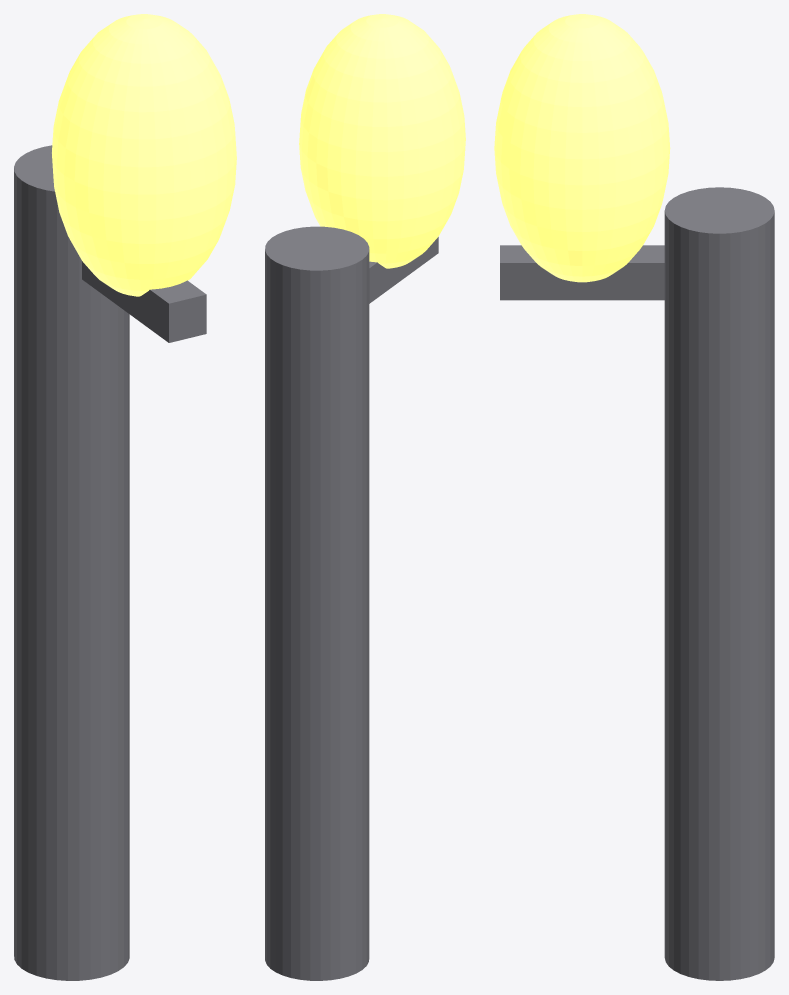
Rendered from prop_torch.glb.
The picture shows the model from 3 angles, left to right: view 1: azimuth 30°, elevation 25°; view 2: azimuth 150°, elevation 25°; view 3: azimuth 270°, elevation 25°; orthographic projection. The views are drawn at different scales.
Parts seen in each view (by area): view 1: Torch_Holder, Torch_Flame, Torch_Bracket; view 2: Torch_Holder, Torch_Flame, Torch_Bracket; view 3: Torch_Holder, Torch_Flame, Torch_Bracket.
Boxes of the visible parts, x1,y1,x2,y2 form: Torch_Holder: (14,145,129,980); Torch_Flame: (52,14,236,296); Torch_Bracket: (82,261,206,342); Torch_Holder: (265,226,369,980); Torch_Flame: (299,14,465,268); Torch_Bracket: (369,237,438,303); Torch_Holder: (664,187,774,980); Torch_Flame: (494,14,670,282); Torch_Bracket: (500,245,664,300).
Size of the model in its own units: 0.128 by 0.754 by 0.204.
